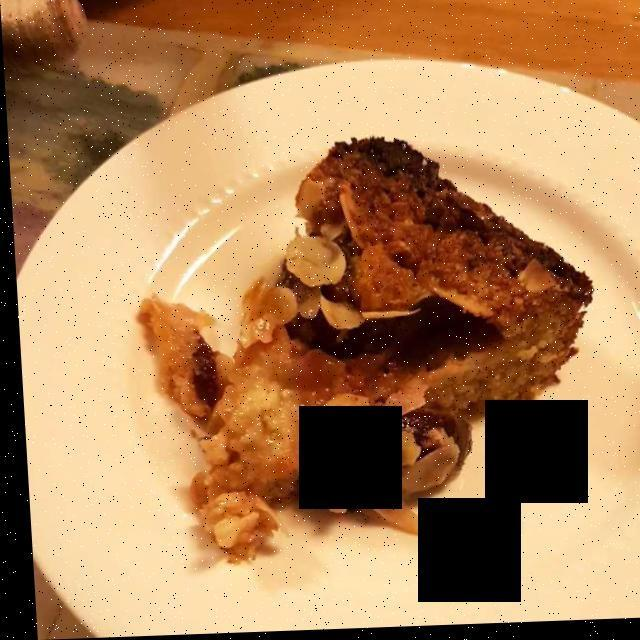almonds: (243, 234, 457, 531)
tart: (150, 155, 598, 546)
